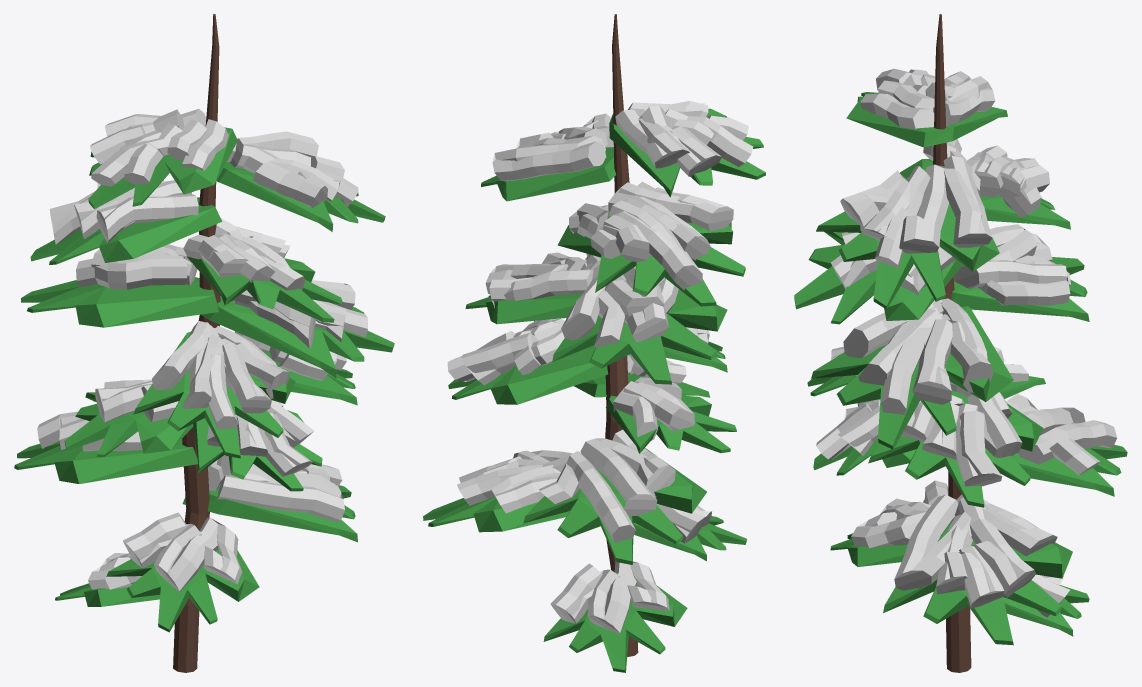
File: Ch_tree_small_2.fbx
The picture shows the model from 3 angles, left to right: view 1: azimuth 30°, elevation 25°; view 2: azimuth 150°, elevation 25°; view 3: azimuth 270°, elevation 25°; orthographic projection. The views are drawn at different scales.
Visible parts, largest first — view 1: Ch_tree_small_2; view 2: Ch_tree_small_2; view 3: Ch_tree_small_2.
Boxes of the visible parts, box(x1,y1,x2,y2) form: Ch_tree_small_2: box(14, 14, 394, 672); Ch_tree_small_2: box(423, 14, 765, 672); Ch_tree_small_2: box(794, 14, 1127, 672).
Size of the model in its own units: 270 by 536 by 244.
